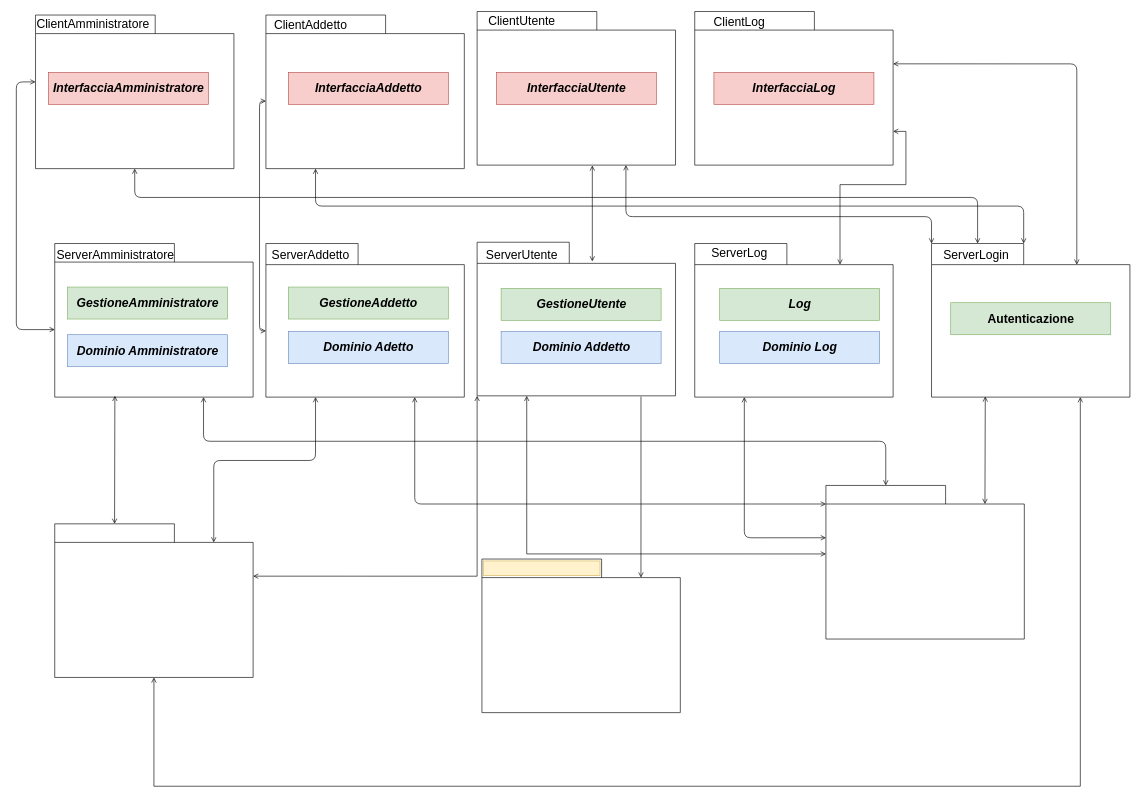
Image size: 1141x803. Some labels were removed from this diagram. The shapes that lost their labels are listed below. From the top down, each one's centre as x and y in pixels, then its label:
At (541,568): "GestorePagamento".
At (924,562): "Log Persistence".
At (153,600): "Data Persistence".
